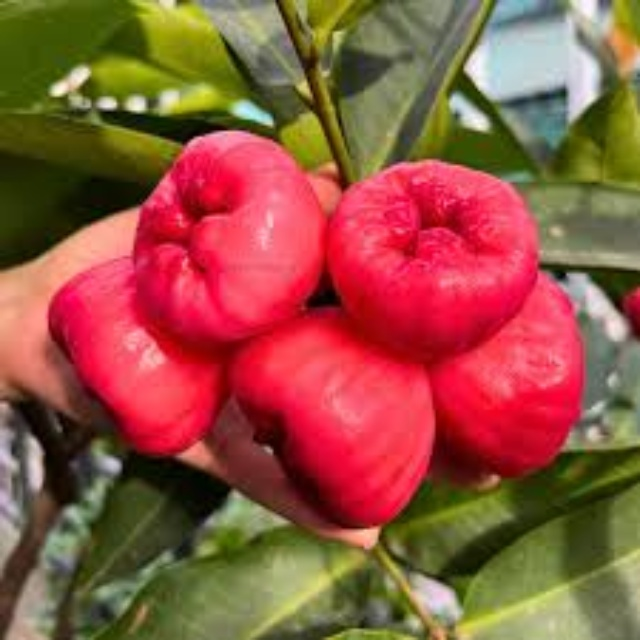xoai: (316, 127, 538, 350), (224, 299, 431, 536), (112, 114, 333, 320)
